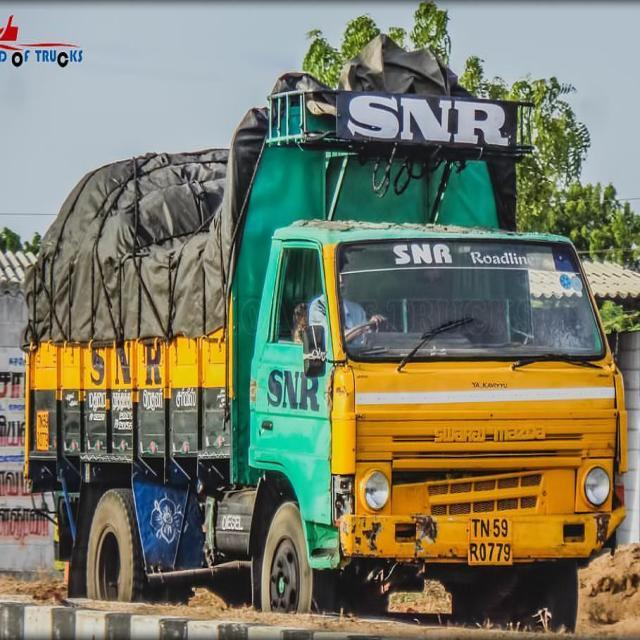Truck: (21, 77, 640, 614)
